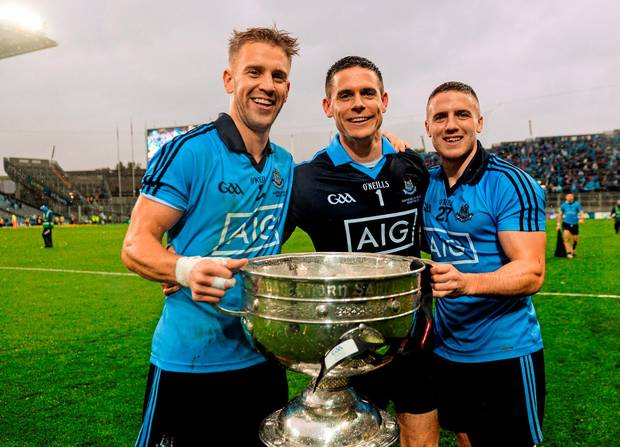player: (291, 40, 448, 433), (147, 12, 287, 418), (415, 67, 552, 444)
